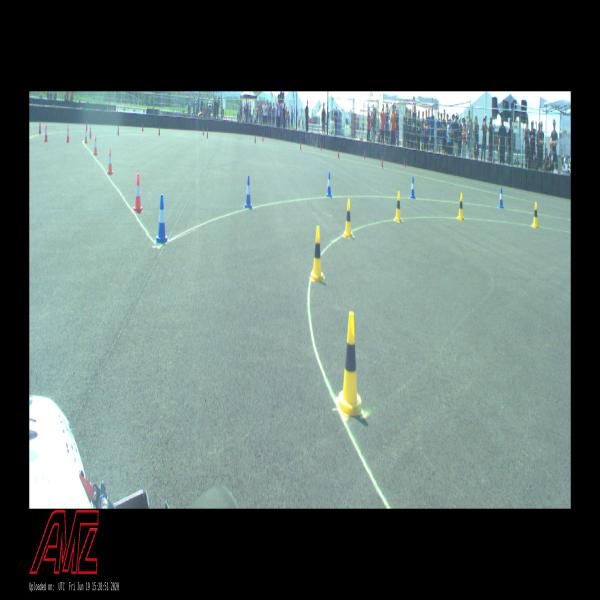blue_cone: (156, 194, 168, 243), (245, 175, 252, 209), (325, 172, 332, 198), (498, 188, 504, 209), (410, 177, 415, 199)
orange_cone: (133, 174, 143, 213), (107, 148, 113, 174), (93, 136, 98, 155), (44, 125, 49, 142), (66, 126, 70, 143), (84, 128, 88, 144)
unknown_cone: (89, 126, 92, 139), (39, 122, 41, 134)
yellow_cone: (336, 312, 364, 415), (310, 225, 324, 282), (344, 198, 352, 238), (395, 191, 402, 222), (458, 193, 464, 220), (532, 202, 538, 228)
